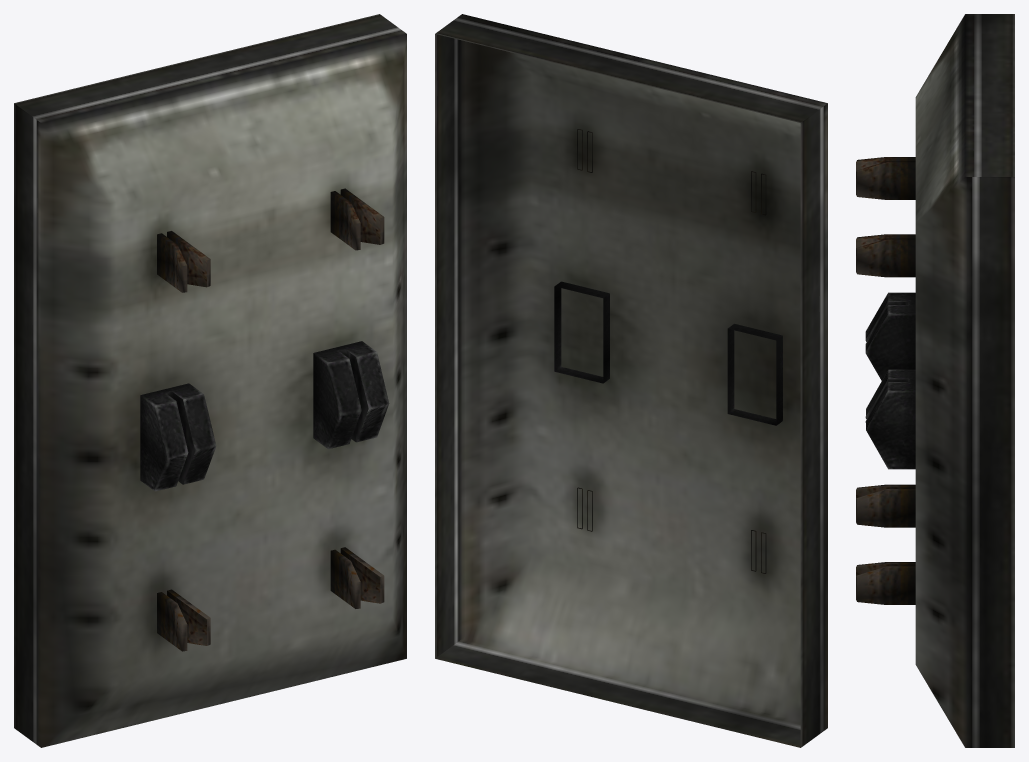
Rendered from leverbase.fbx.
3 views of the same model, side by side, from view 1: azimuth 30°, elevation 25°; view 2: azimuth 150°, elevation 25°; view 3: azimuth 270°, elevation 25° (orthographic). The views are drawn at different scales.
Parts seen in each view (by area): view 1: Scene_Root; view 2: Scene_Root; view 3: Scene_Root.
Part boxes in pixels (x1=…): Scene_Root: x1=14, y1=14, x2=406, y2=747; Scene_Root: x1=435, y1=14, x2=827, y2=747; Scene_Root: x1=856, y1=14, x2=1014, y2=747.
Size of the model in its own units: 3.13 by 5.11 by 1.29.
Materials: 1 (1 with a texture image).
